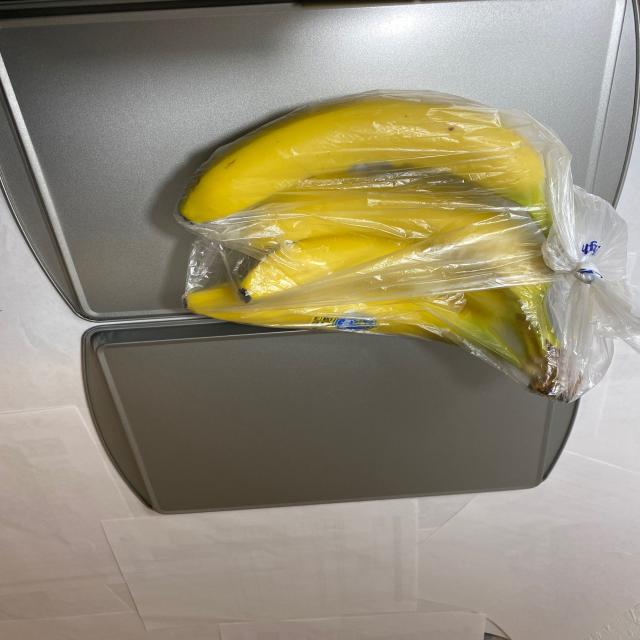banana: (180, 92, 584, 404)
